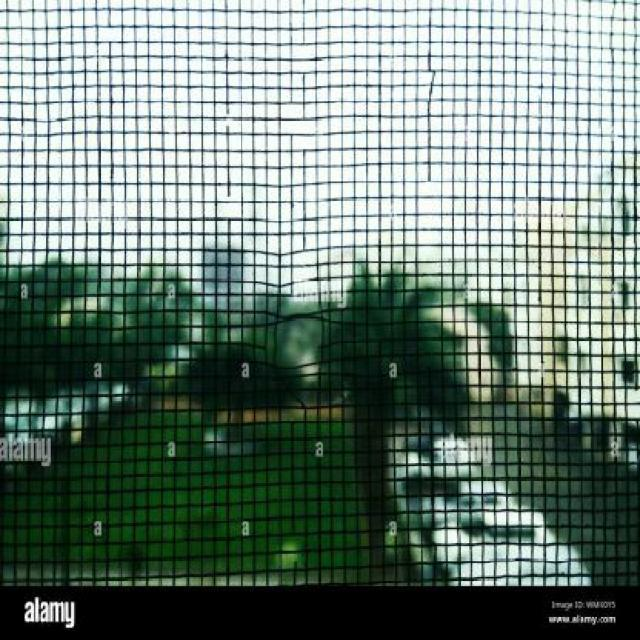fence line: (260, 309, 331, 392)
